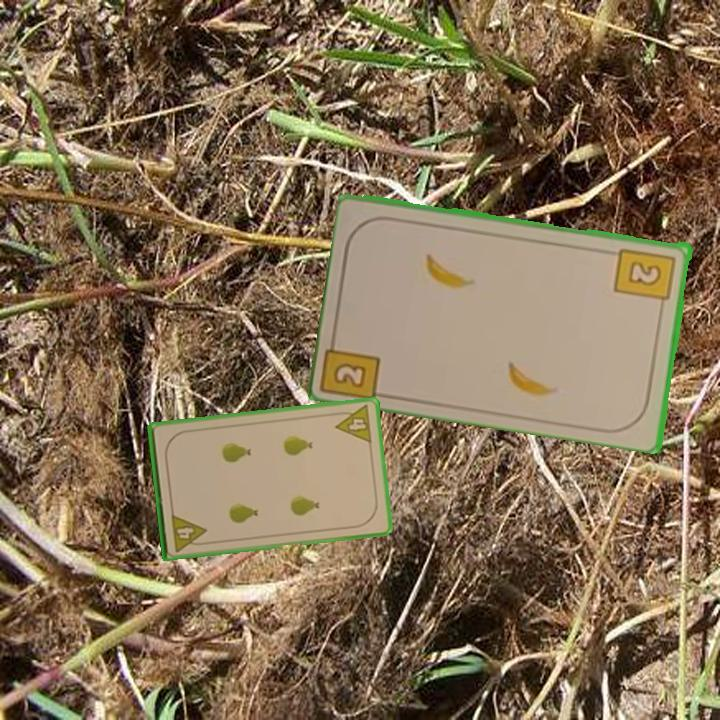2b: (612, 244, 679, 312), (321, 328, 384, 400)
4p: (331, 402, 375, 446), (167, 510, 210, 554)
